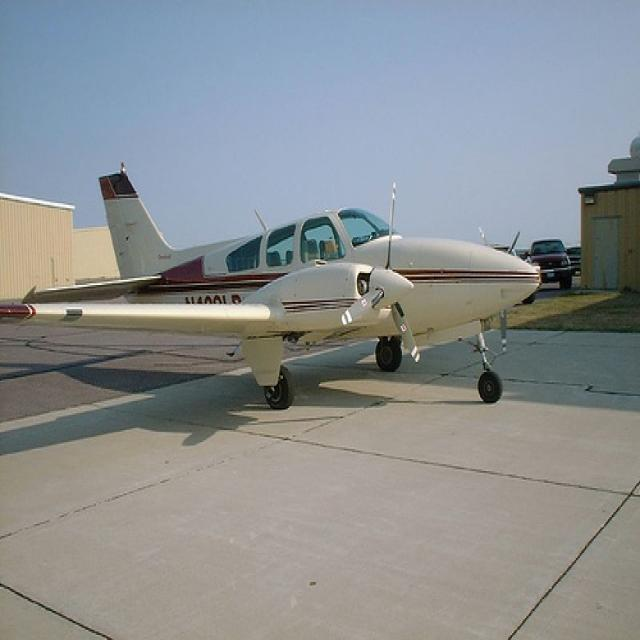aeroplane: (1, 168, 541, 411)
car: (525, 237, 576, 290)
